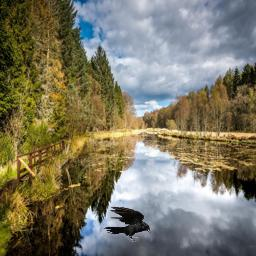Crow: (102, 206, 151, 242)
